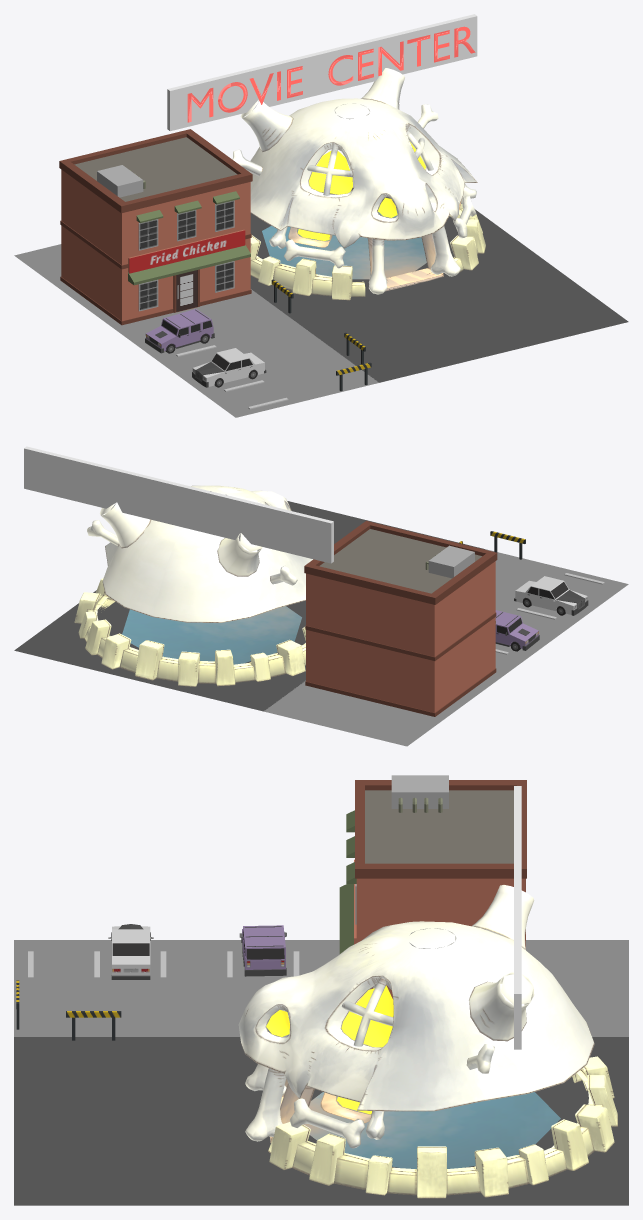
Rendered from supermarket.gltf.
3 views of the same model, one above another, from view 1: azimuth 30°, elevation 25°; view 2: azimuth 150°, elevation 25°; view 3: azimuth 270°, elevation 25° (orthographic). The views are drawn at different scales.
Parts seen in each view (by area): view 1: House_Cuboneobjcleanermaterialmergergles, Building_Chicken_Shop_Cube016, Road_Tile_Plane003, Road_Concrete_Tile_Plane010, Text, Vehicle_SUV_Cube096, Vehicle_Car_Cube050, Props_Traffic_Control_Barrier_Fence_Cube030; view 2: House_Cuboneobjcleanermaterialmergergles, Building_Chicken_Shop_Cube016, Road_Concrete_Tile_Plane010, Road_Tile_Plane003, Vehicle_Car_Cube050, Vehicle_SUV_Cube096; view 3: House_Cuboneobjcleanermaterialmergergles, Road_Tile_Plane003, Road_Concrete_Tile_Plane010, Building_Chicken_Shop_Cube016, Vehicle_SUV_Cube096, Vehicle_Car_Cube050, Road_Split_Line_Cube007, Props_Traffic_Control_Barrier_Fence_Cube030.
Part boxes in pixels (box(x1,y1,x2,y2)): House_Cuboneobjcleanermaterialmergergles: box(167, 14, 485, 300); Building_Chicken_Shop_Cube016: box(59, 129, 252, 325); Road_Tile_Plane003: box(250, 188, 628, 382); Road_Concrete_Tile_Plane010: box(14, 244, 379, 417); Text: box(187, 26, 475, 122); Vehicle_SUV_Cube096: box(145, 309, 214, 353); Vehicle_Car_Cube050: box(192, 348, 266, 387); Props_Traffic_Control_Barrier_Fence_Cube030: box(271, 279, 371, 391); House_Cuboneobjcleanermaterialmergergles: box(24, 446, 333, 686); Building_Chicken_Shop_Cube016: box(304, 520, 497, 716); Road_Concrete_Tile_Plane010: box(264, 549, 628, 746); Road_Tile_Plane003: box(14, 501, 484, 711); Vehicle_Car_Cube050: box(514, 576, 588, 615); Vehicle_SUV_Cube096: box(495, 610, 539, 651); House_Cuboneobjcleanermaterialmergergles: box(238, 786, 617, 1198); Road_Tile_Plane003: box(14, 1037, 628, 1205); Road_Concrete_Tile_Plane010: box(14, 940, 628, 1036); Building_Chicken_Shop_Cube016: box(339, 775, 526, 999); Vehicle_SUV_Cube096: box(239, 925, 286, 976); Vehicle_Car_Cube050: box(108, 924, 153, 979); Road_Split_Line_Cube007: box(28, 951, 299, 978); Props_Traffic_Control_Barrier_Fence_Cube030: box(16, 980, 121, 1040).
Size of the model in its own units: 43.94 by 16.7 by 40.
Materials: 13 (11 with a texture image).
